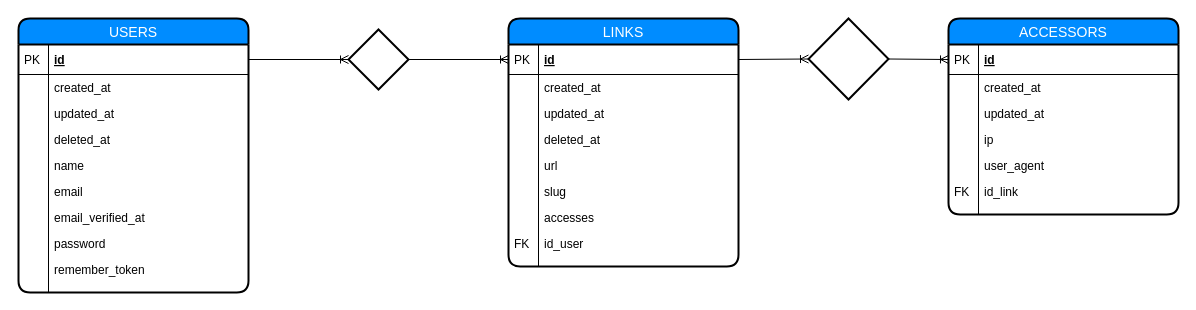
This 1196x310 diagram has some shape labels left out. The shapes that lost their labels are listed below. From the top down, each one's centre as x and y in pixels, then its label:
the point at 378,59: has
the point at 848,58: accessed
